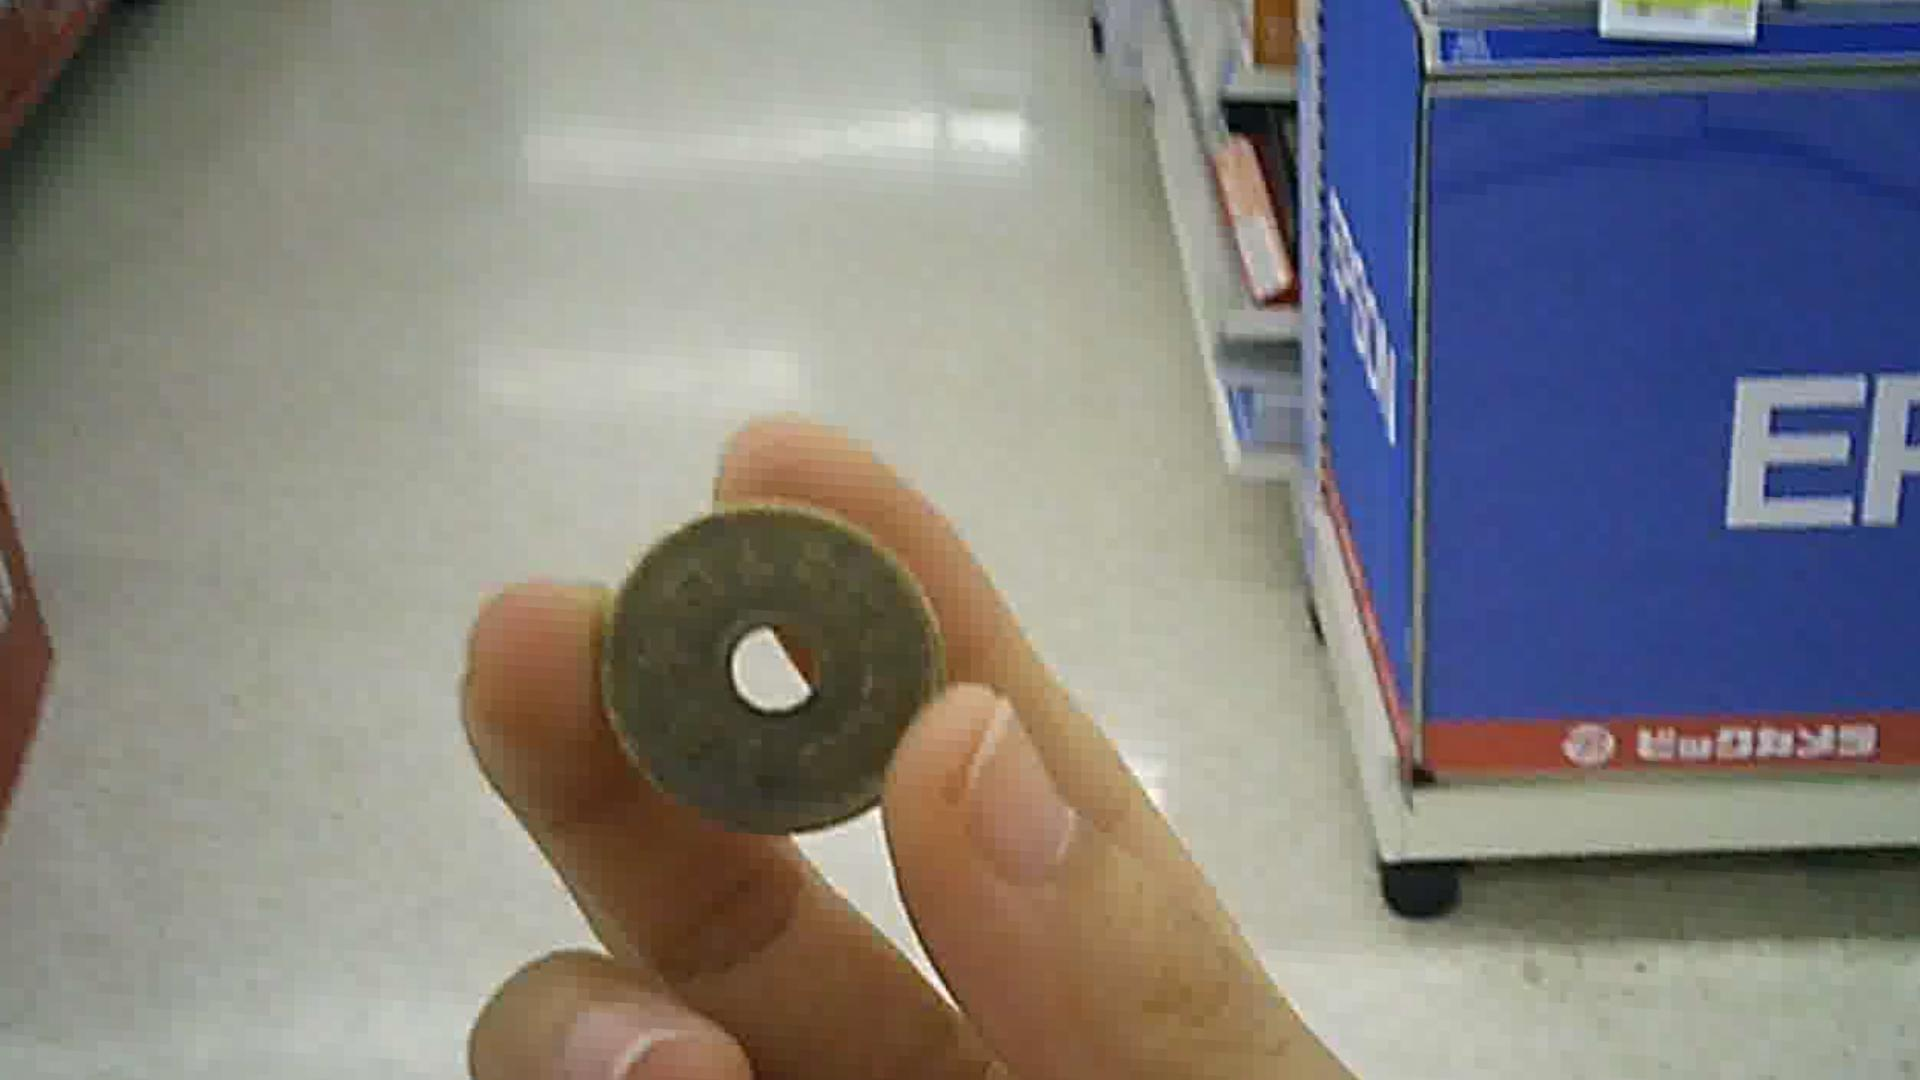5 Yen: (578, 498, 943, 837)
